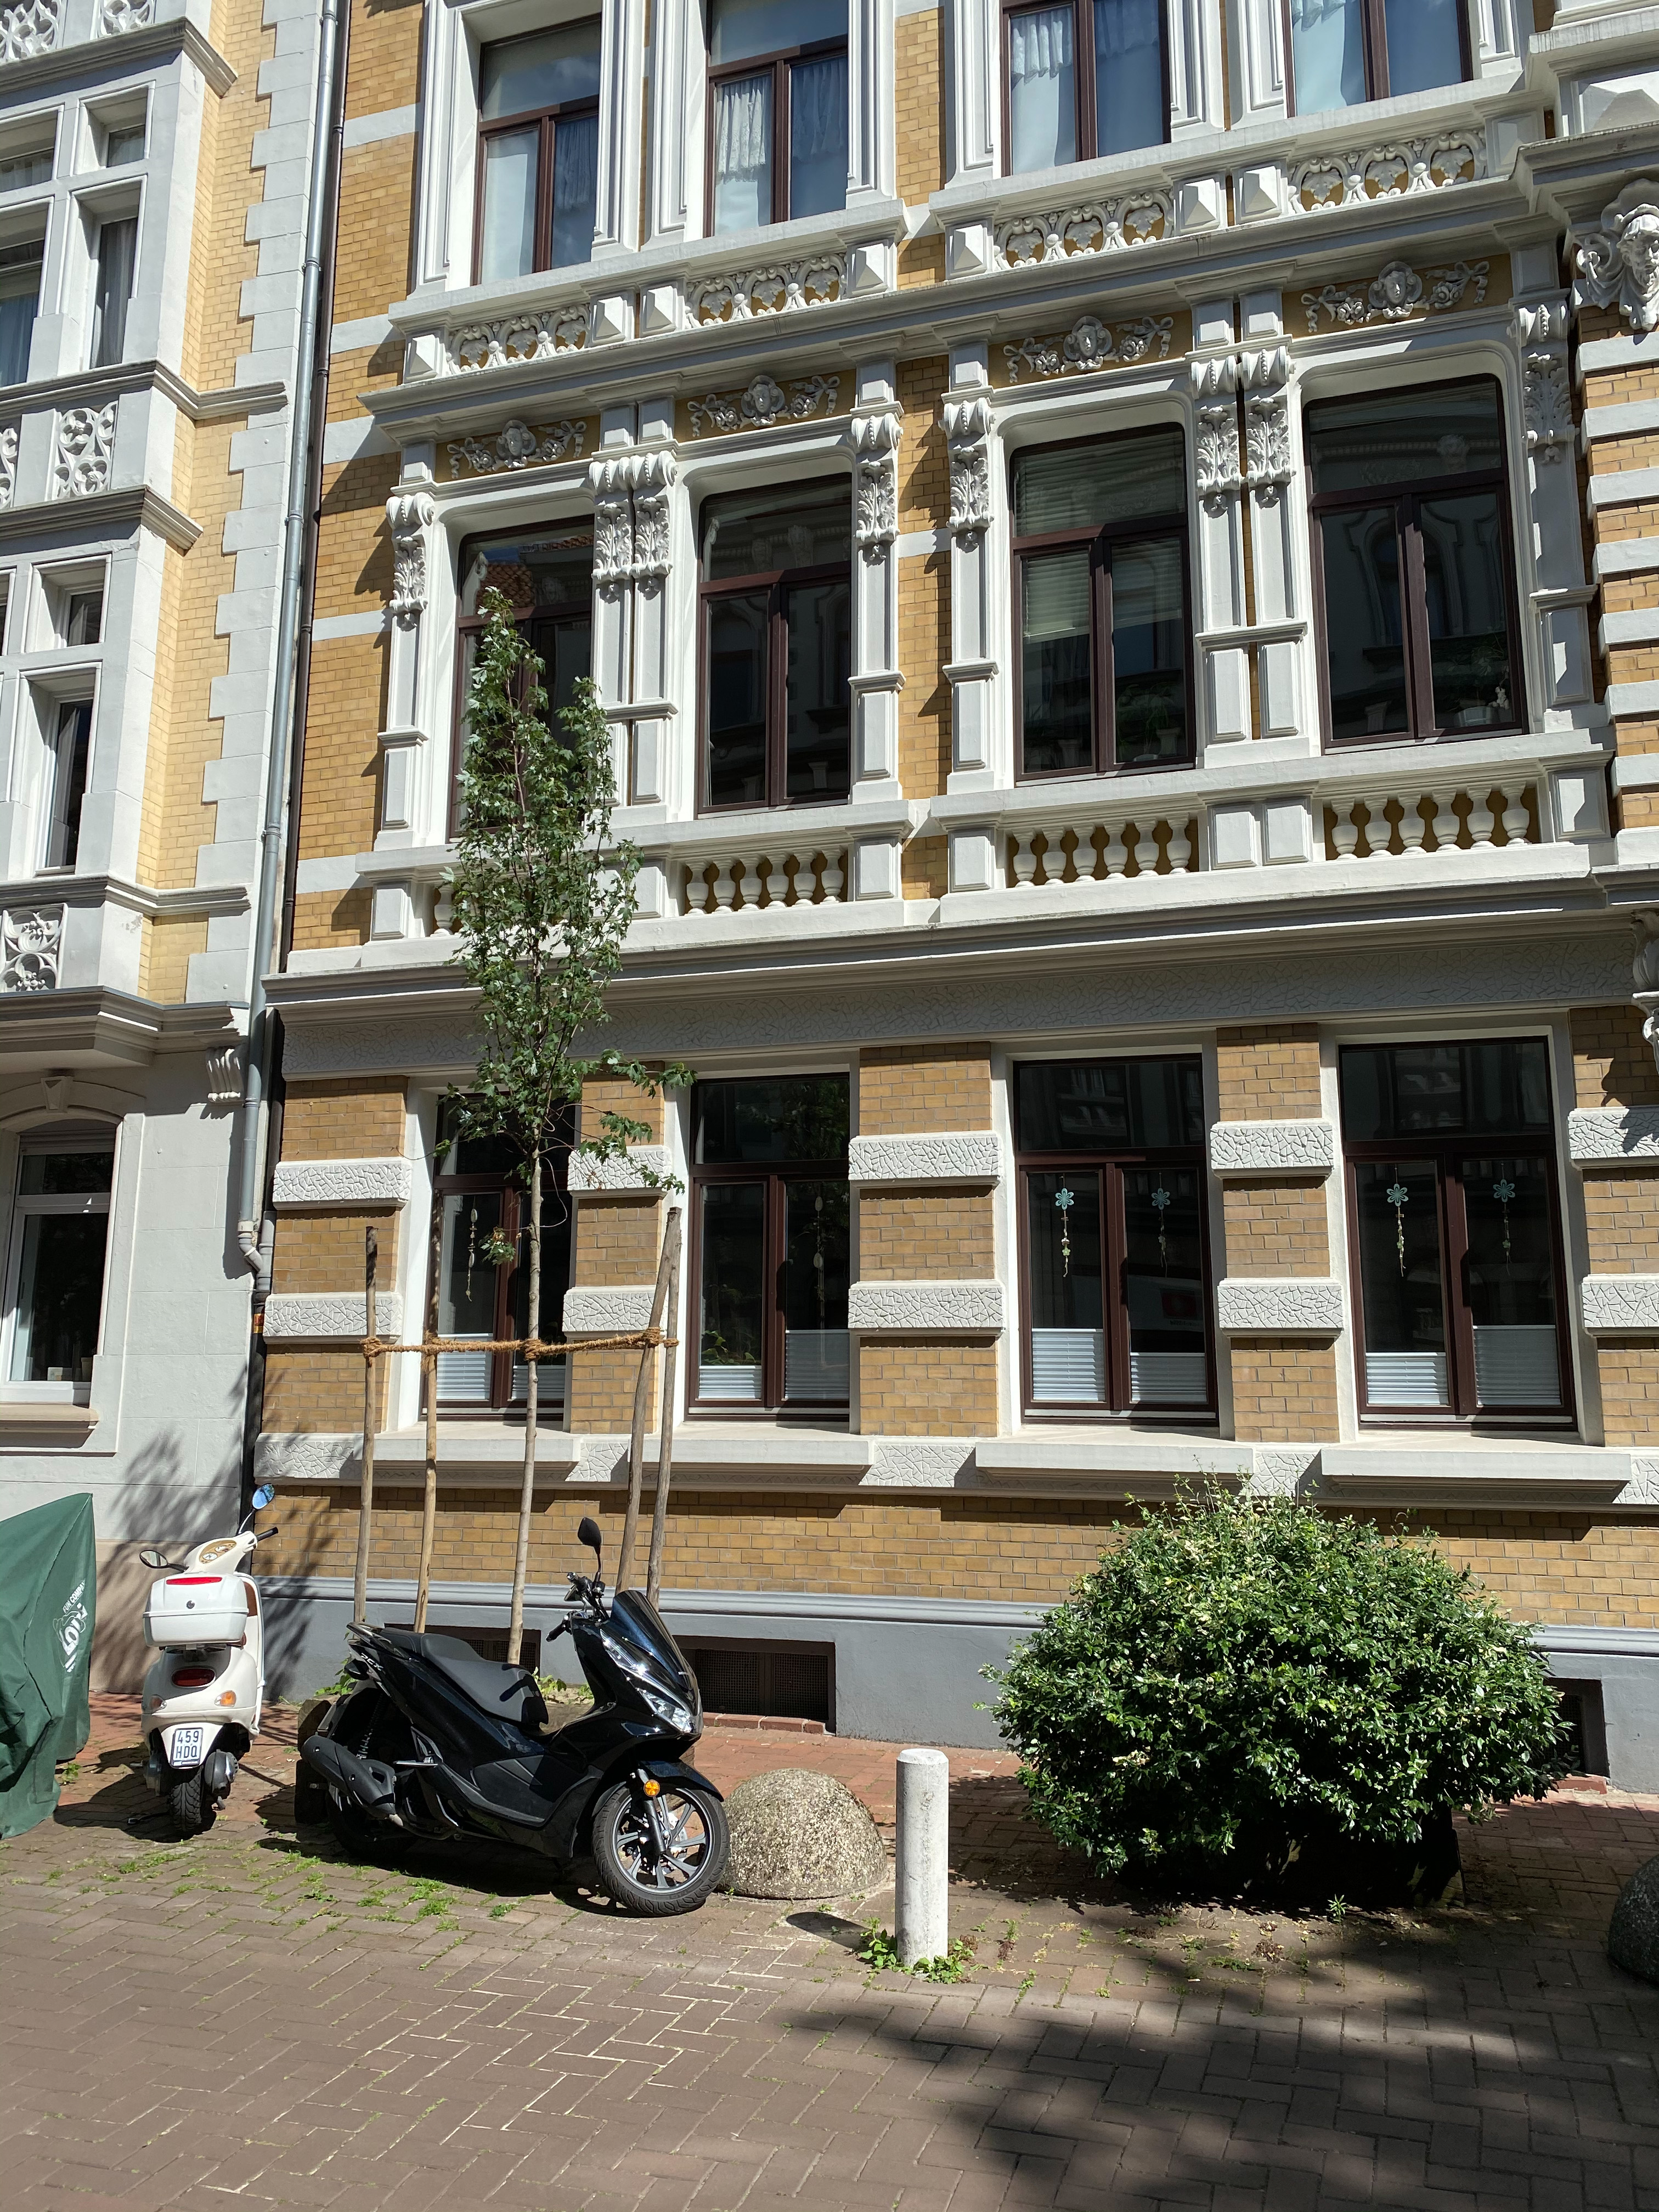tree: (450, 578, 697, 1672)
